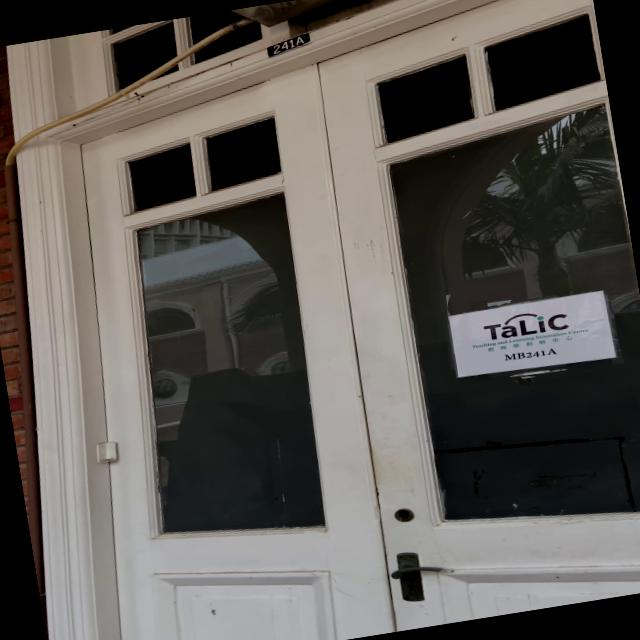room241a: (262, 30, 314, 60)
